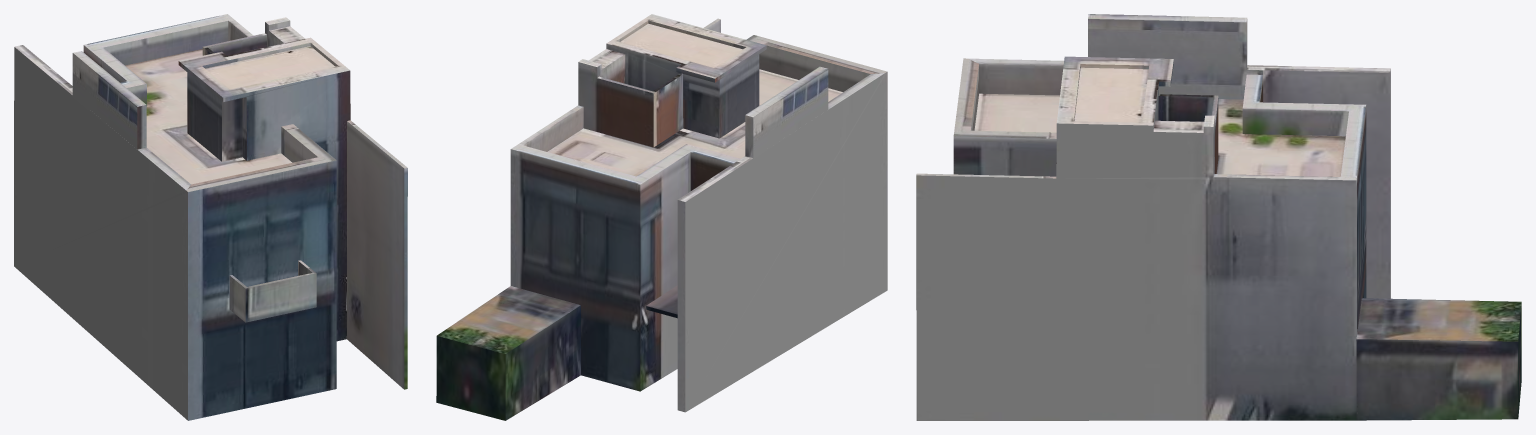
The picture shows the model from 3 angles, left to right: view 1: azimuth 30°, elevation 25°; view 2: azimuth 150°, elevation 25°; view 3: azimuth 270°, elevation 25°; orthographic projection. The views are drawn at different scales.
Visible parts, largest first — view 1: B285394030501062A0; view 2: B285394030501062A0; view 3: B285394030501062A0.
Boxes of the visible parts, bbox=[...] form: B285394030501062A0: bbox=[14, 14, 407, 420]; B285394030501062A0: bbox=[436, 14, 887, 420]; B285394030501062A0: bbox=[916, 14, 1521, 420].
Size of the model in its own units: 9.54 by 11.22 by 20.36.
Materials: 1 (1 with a texture image).
